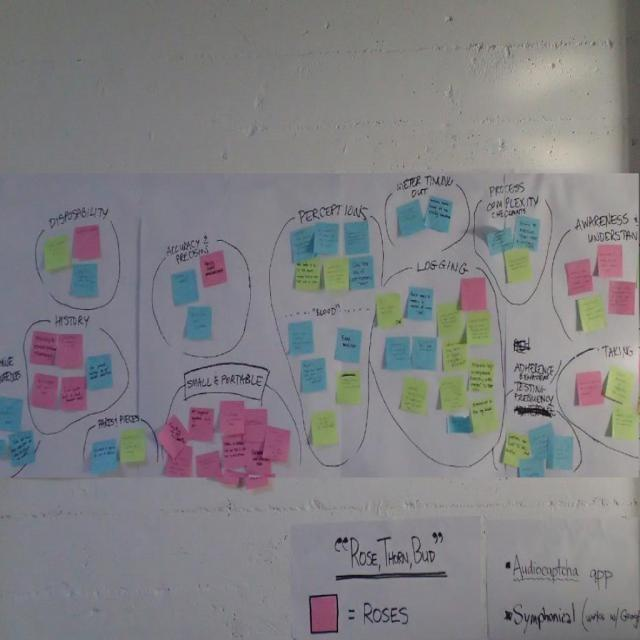Whiteboard: (0, 172, 639, 478)
